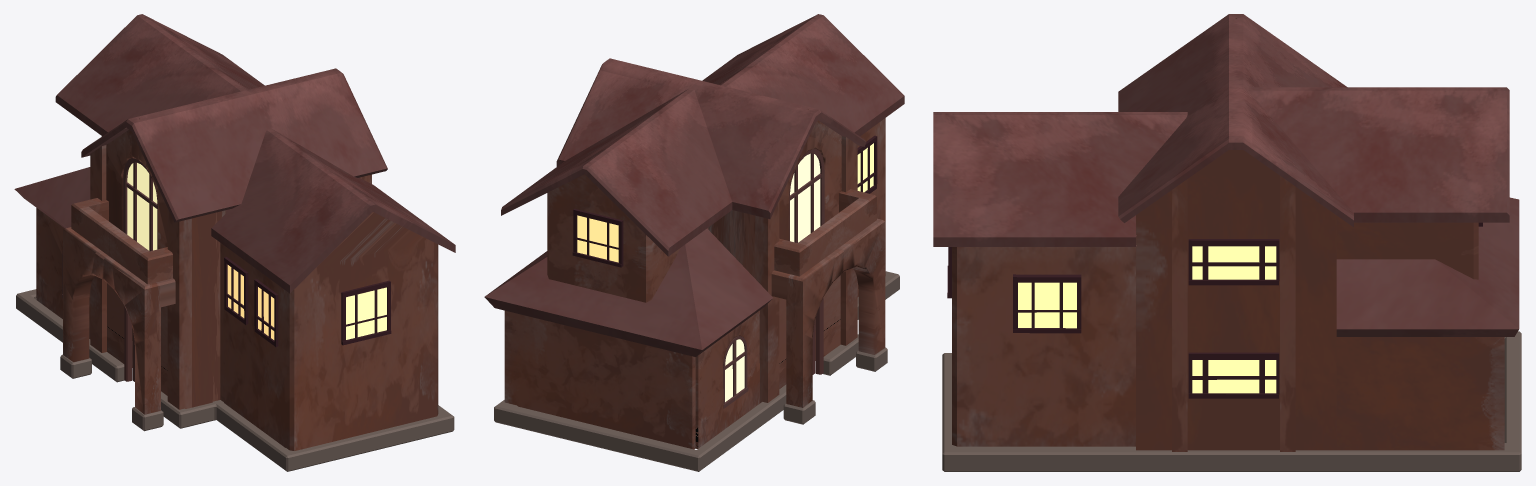
File: house_brick_2f_2x1.glb
The picture shows the model from 3 angles, left to right: view 1: azimuth 30°, elevation 25°; view 2: azimuth 150°, elevation 25°; view 3: azimuth 270°, elevation 25°; orthographic projection. The views are drawn at different scales.
Parts seen in each view (by area): view 1: 2F2to1; view 2: 2F2to1; view 3: 2F2to1.
Part boxes in pixels (left/top/right/bottom): 2F2to1: left=14, top=14, right=455, bottom=471; 2F2to1: left=484, top=14, right=904, bottom=471; 2F2to1: left=933, top=14, right=1521, bottom=471.
Size of the model in its own units: 9.27 by 9.95 by 15.75.
6 materials, 2 textured.
